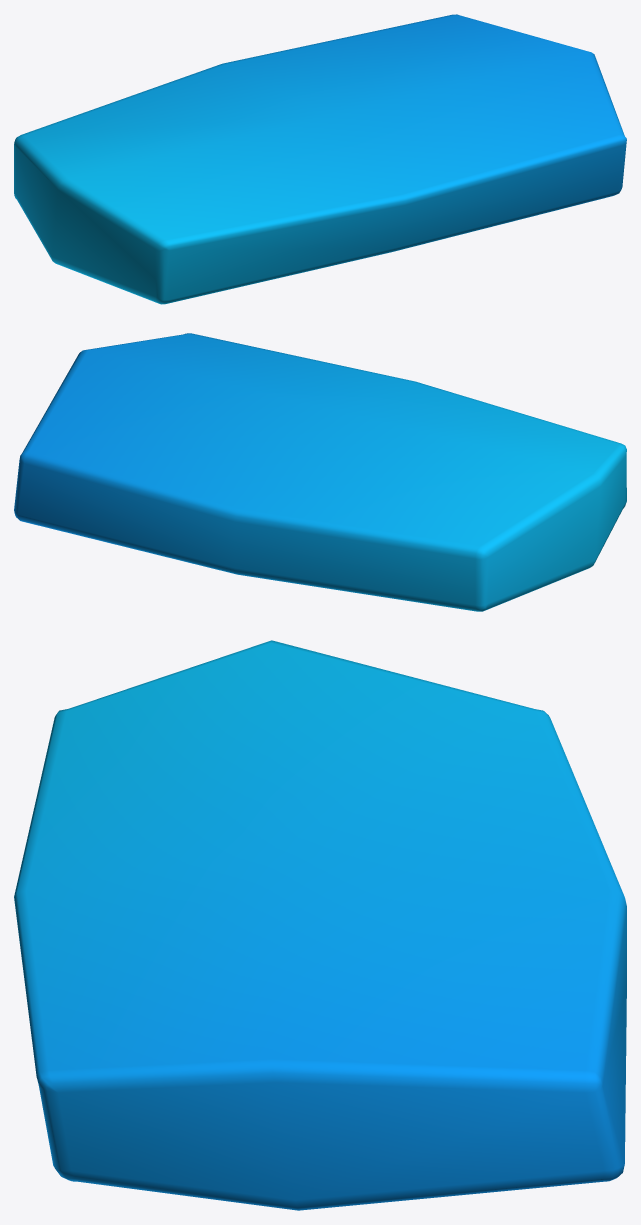
File: stone02.FBX
The picture shows the model from 3 angles, top to bottom: view 1: azimuth 30°, elevation 25°; view 2: azimuth 150°, elevation 25°; view 3: azimuth 270°, elevation 25°; orthographic projection. The views are drawn at different scales.
Visible parts, largest first — view 1: Box001; view 2: Box001; view 3: Box001.
Part boxes in pixels (box(x1,y1,x2,y2)): Box001: box(14, 14, 626, 304); Box001: box(14, 333, 626, 611); Box001: box(14, 640, 626, 1210).
Size of the model in its own units: 312 by 50.28 by 187.
